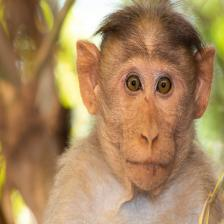monkey: (53, 4, 224, 221)
